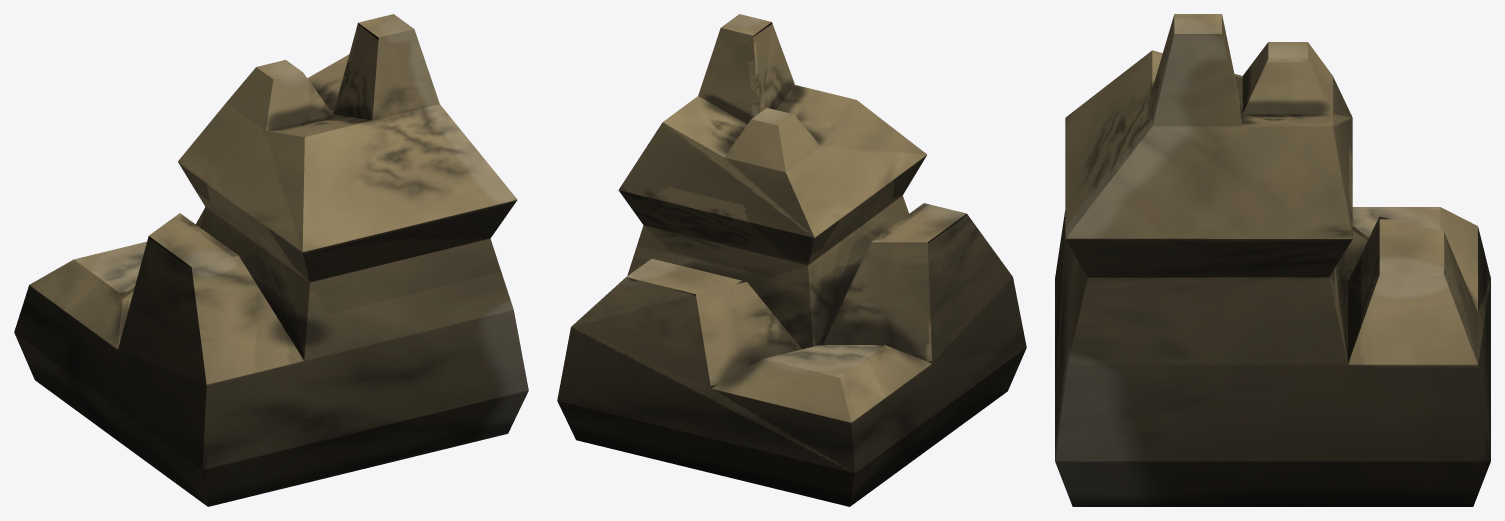
The model's file is Stone.glb.
3 renders of one model, left to right at view 1: azimuth 30°, elevation 25°; view 2: azimuth 150°, elevation 25°; view 3: azimuth 270°, elevation 25°, orthographic. The views are drawn at different scales.
Parts seen in each view (by area): view 1: Cube; view 2: Cube; view 3: Cube.
Part boxes in pixels (box(x1,y1,x2,y2)): Cube: box(14, 14, 528, 506); Cube: box(557, 14, 1026, 506); Cube: box(1055, 14, 1490, 506).
Size of the model in its own units: 1 by 1.13 by 1.
Materials: 1 (1 with a texture image).
